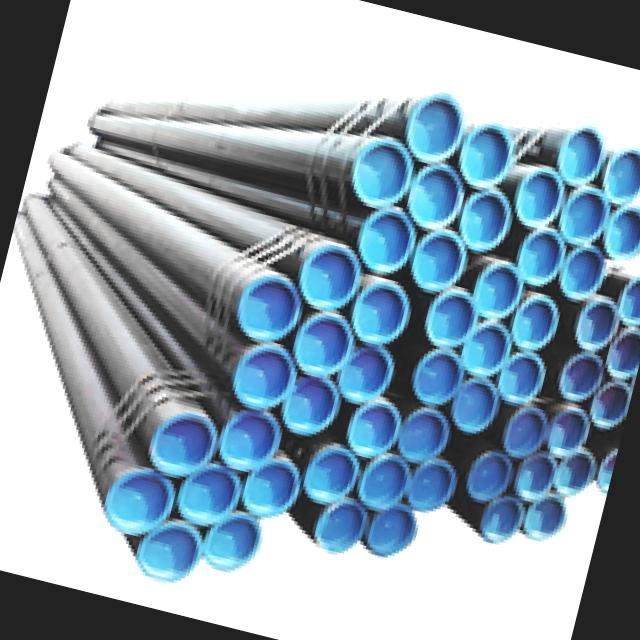gas: (52, 179, 290, 409), (26, 197, 215, 474), (13, 212, 173, 532), (70, 146, 361, 309), (51, 156, 301, 338), (90, 113, 411, 203), (99, 99, 362, 129)
